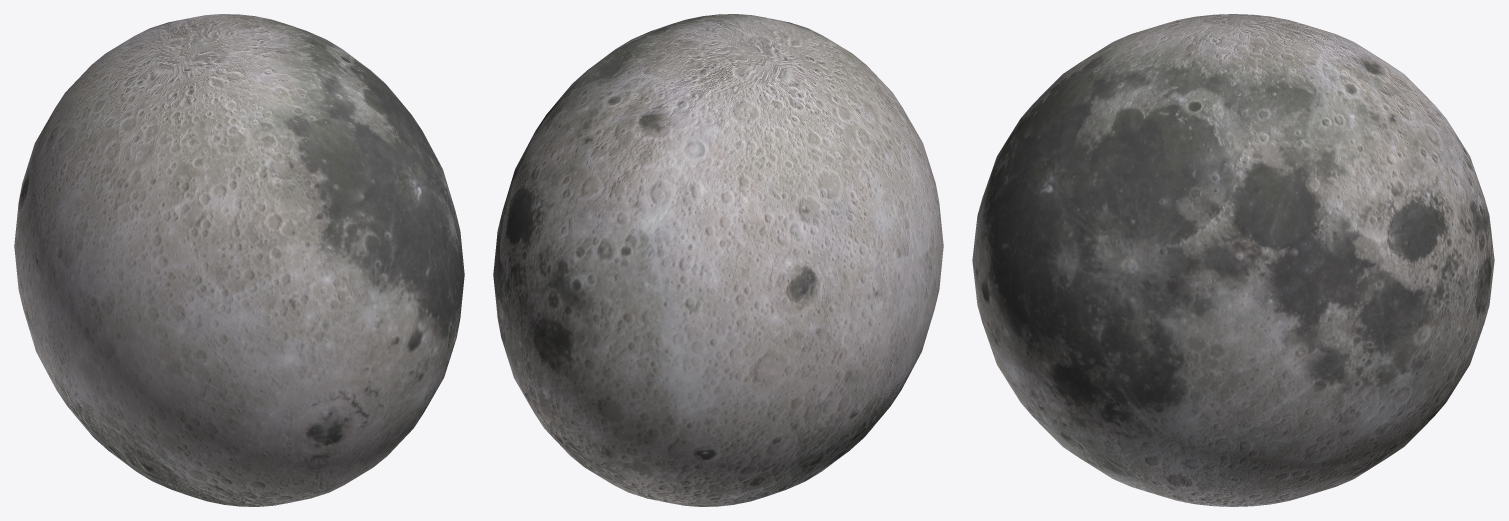
The model's file is moon.glb.
3 views of the same model, side by side, from view 1: azimuth 30°, elevation 25°; view 2: azimuth 150°, elevation 25°; view 3: azimuth 270°, elevation 25° (orthographic). The views are drawn at different scales.
Visible parts, largest first — view 1: Sphere; view 2: Sphere; view 3: Sphere.
Boxes of the visible parts, left/top/right/bottom form: Sphere: left=14, top=14, right=464, bottom=506; Sphere: left=493, top=14, right=943, bottom=506; Sphere: left=972, top=14, right=1494, bottom=506.
Size of the model in its own units: 3.45 by 3.97 by 4.12.
Materials: 1 (1 with a texture image).
